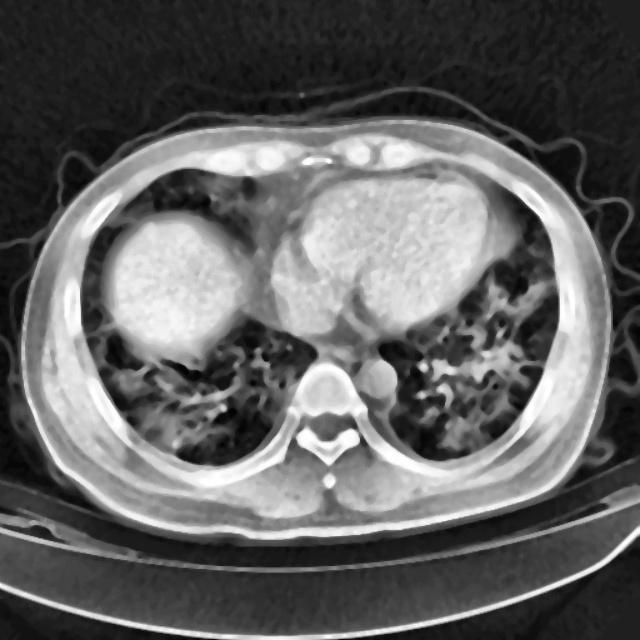covid: (15, 112, 613, 544)
